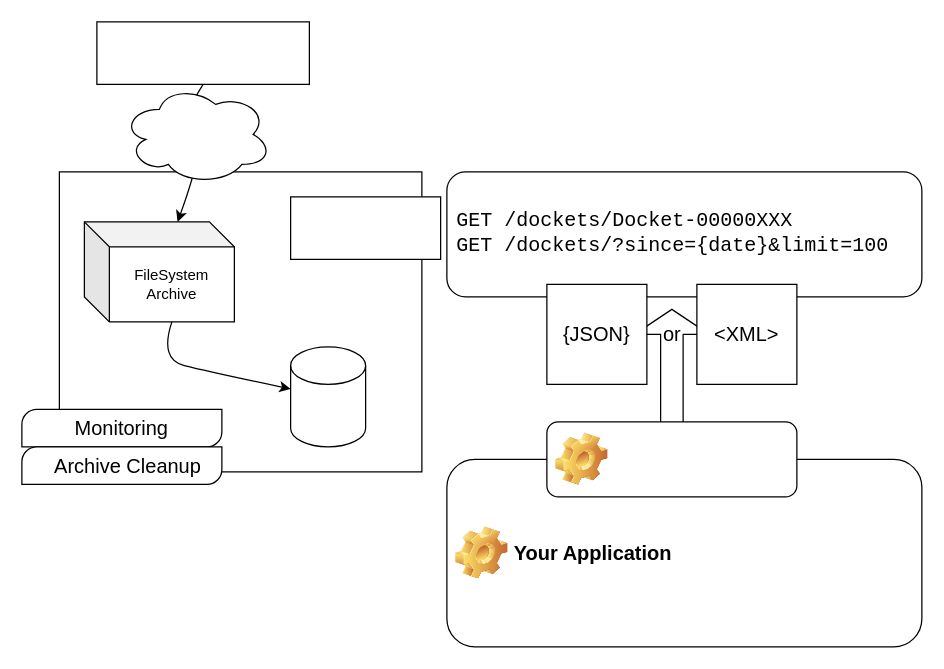
Some shapes in this 944 by 669 pixel diagram are drawn without their labels. Each missing label, with the box of its shape:
Database: (289, 346, 366, 447)
Generated Client: (546, 421, 797, 497)
REST API: (289, 196, 441, 259)
UCMS-UCE SFTP site: (96, 21, 309, 84)
